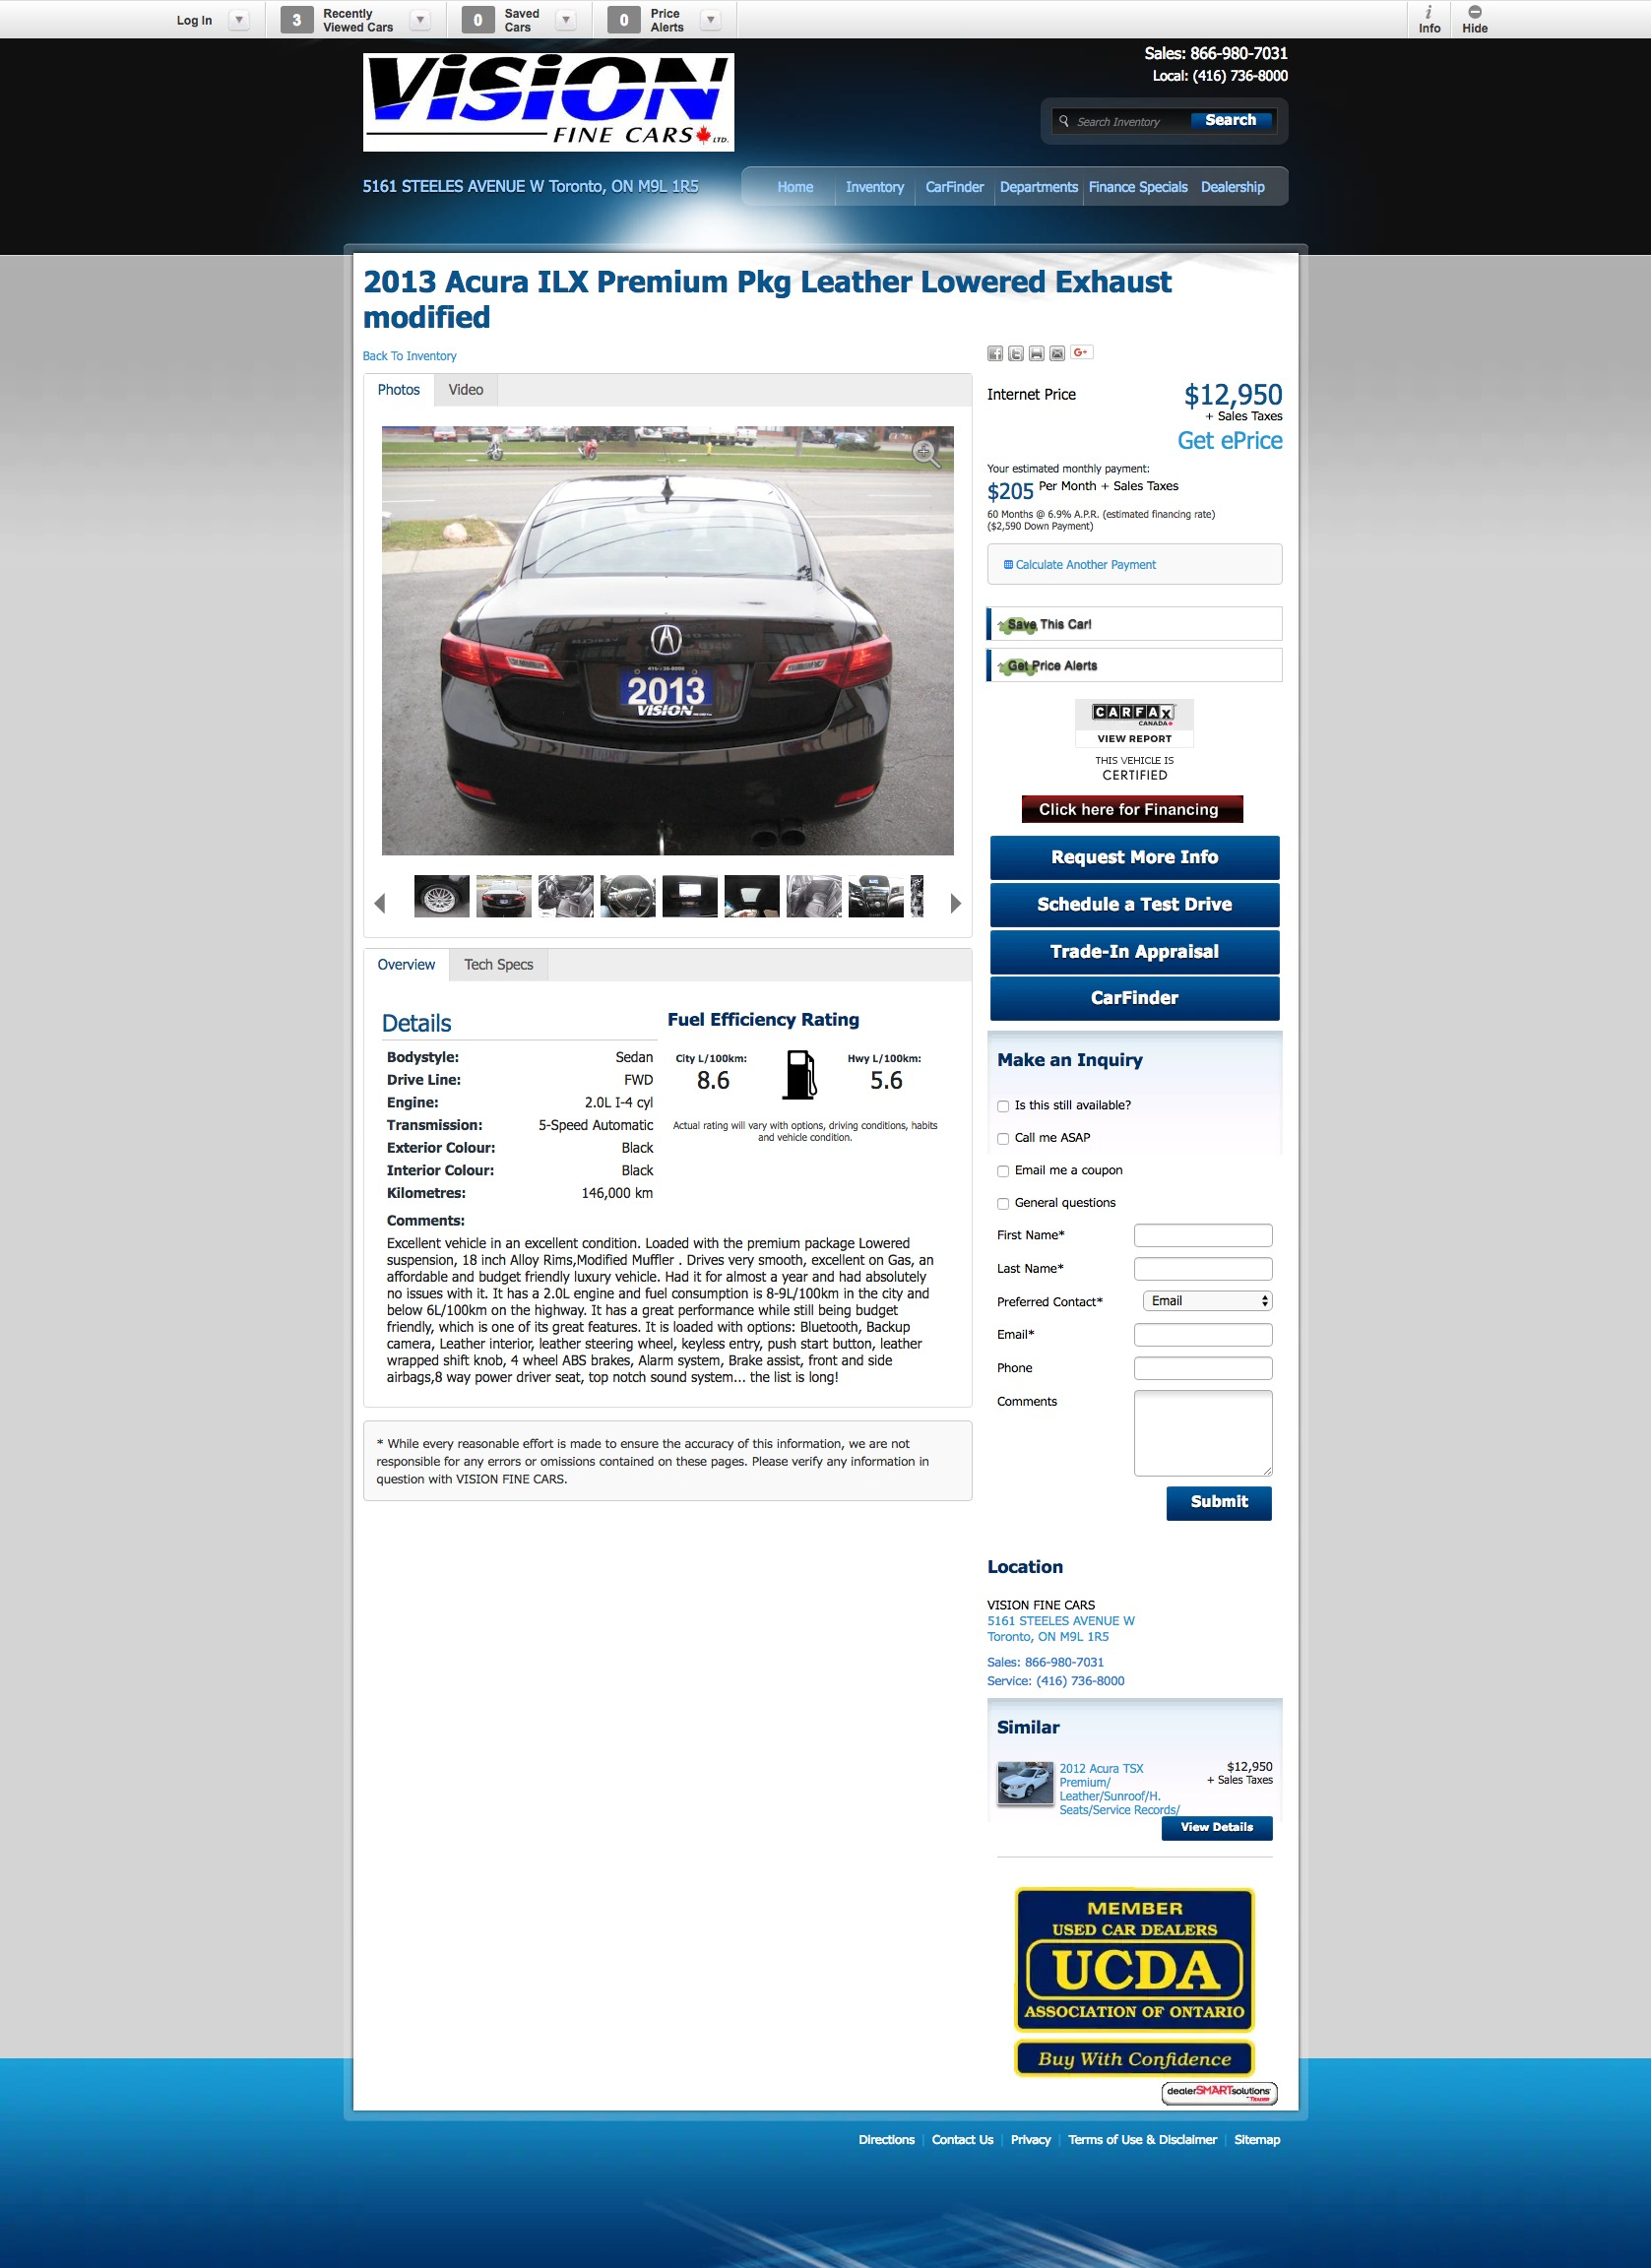car: (950, 891, 962, 914)
